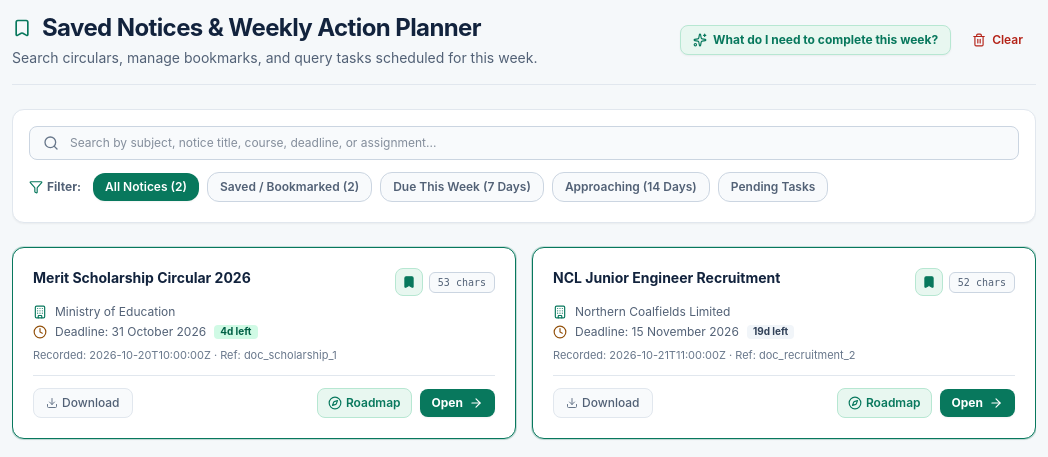
Test: NoticeHistoryView Component › filters notices based on search query
Check: the text "Merit Scholarship Circular 2026" is shown, box [33,268,251,287]
Replace the text in the field with placeholder "Search by subject" with "Coalfields" at (524, 143), box [29,126,1019,160]
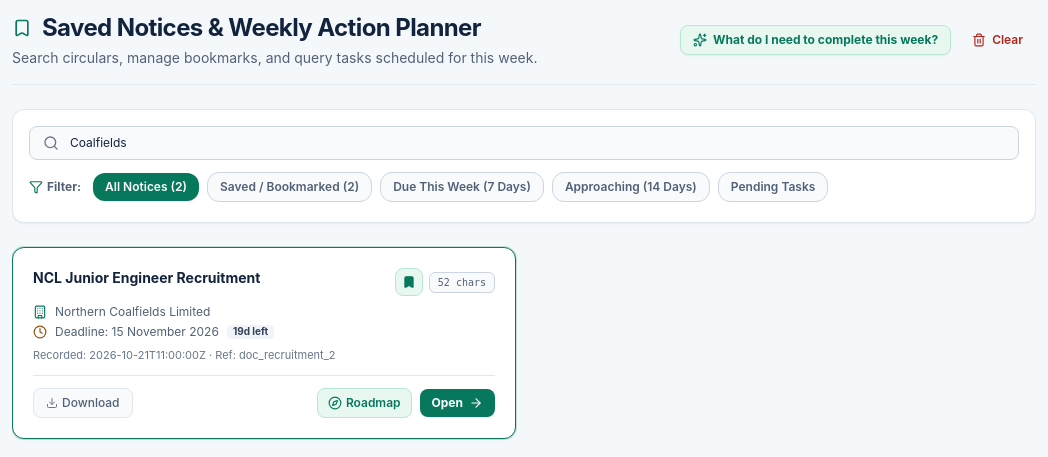
Check: the text "NCL Junior Engineer Recruitment" is shown, box [33,268,260,287]
Check: the text "Merit Scholarship Circular 2026" is gone
